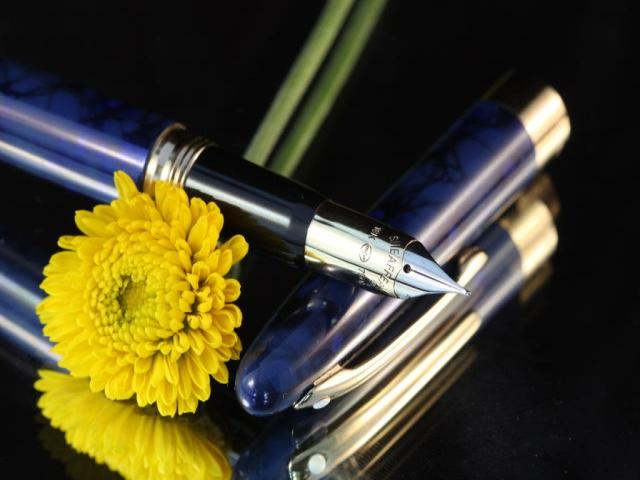PEN: (6, 56, 500, 305)
